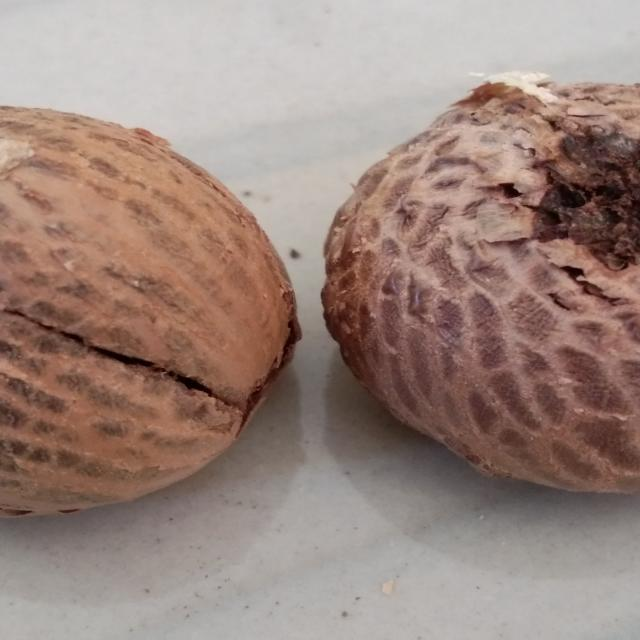karigot: (325, 75, 640, 501)
phatora: (0, 115, 302, 519)
